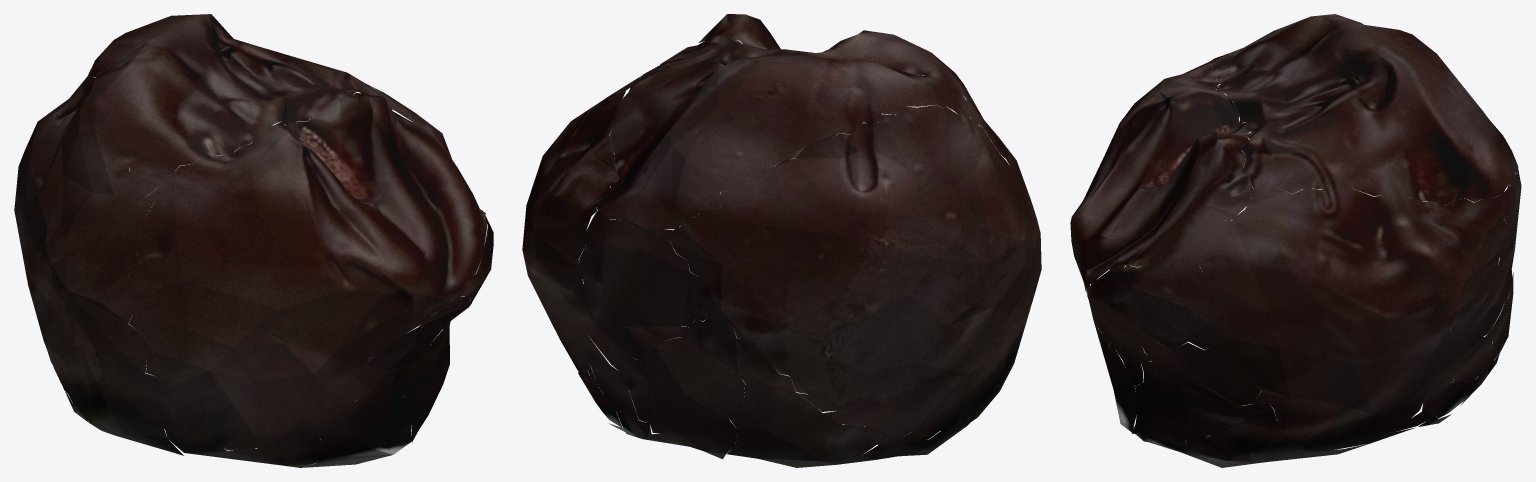
File: peanut-butter-balls.gltf
3 views of the same model, side by side, from view 1: azimuth 30°, elevation 25°; view 2: azimuth 150°, elevation 25°; view 3: azimuth 270°, elevation 25° (orthographic). The views are drawn at different scales.
Visible parts, largest first — view 1: Mesh_0; view 2: Mesh_0; view 3: Mesh_0.
Boxes of the visible parts, left/top/right/bottom form: Mesh_0: left=14, top=14, right=493, bottom=467; Mesh_0: left=522, top=14, right=1041, bottom=467; Mesh_0: left=1070, top=14, right=1521, bottom=467.
Bounding box in the file's own units: 0.1855 × 0.1647 × 0.1804.
Materials: 1 (1 with a texture image).
